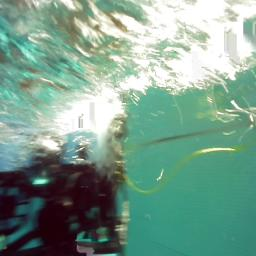Side: (0, 161, 122, 256)
